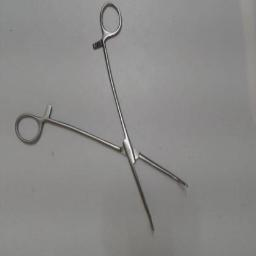Lahey Forceps: (11, 2, 195, 236)
